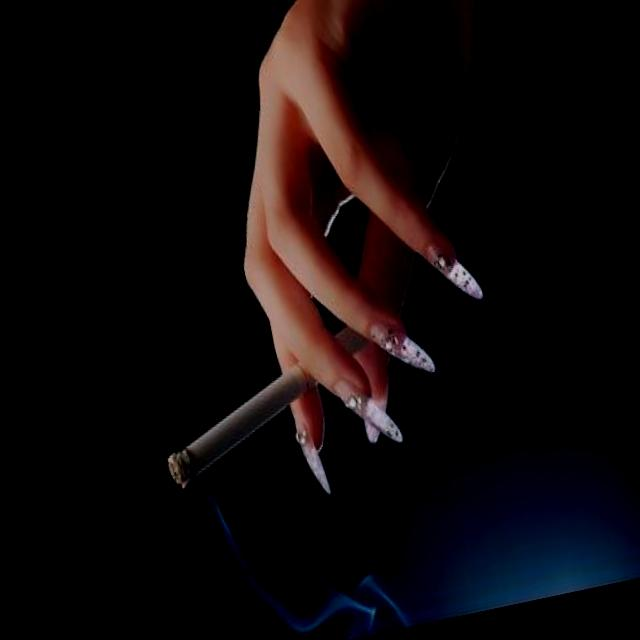cigarette: (153, 376, 304, 498)
